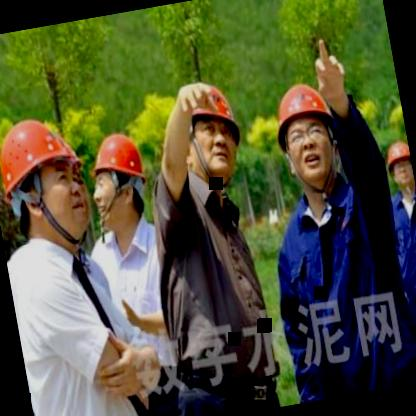helmet: (0, 105, 93, 252), (262, 71, 350, 204), (163, 69, 252, 195), (80, 122, 156, 236), (380, 137, 416, 197)
